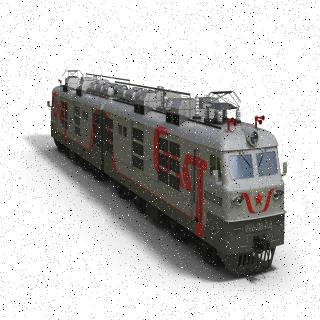poezd: (52, 84, 286, 275)
